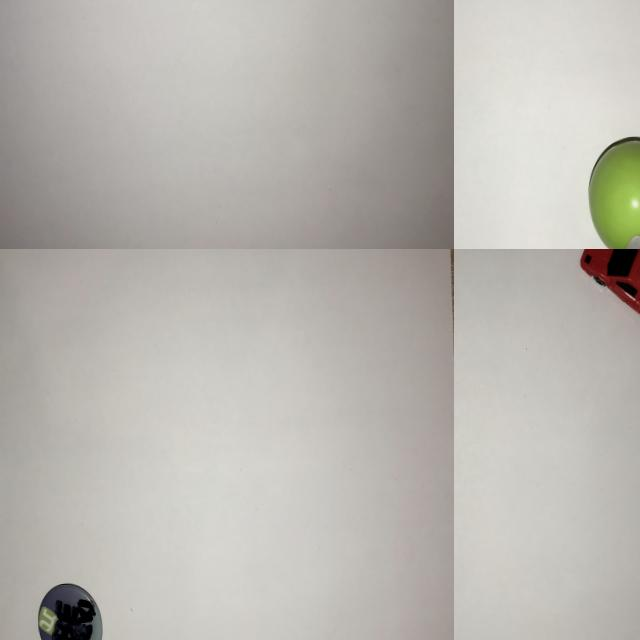car: (572, 249, 640, 343)
icon: (32, 574, 110, 640)
toy: (578, 127, 640, 249)
